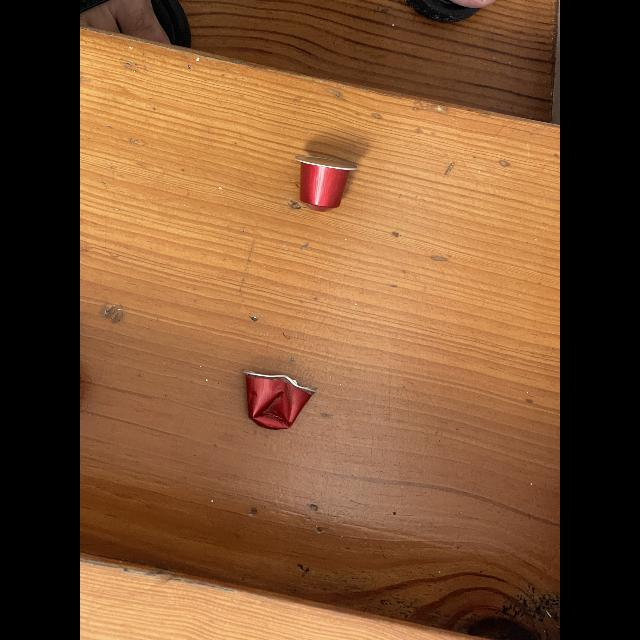damaged_capsule: (238, 365, 324, 441)
intact_capsule: (292, 147, 358, 215)
